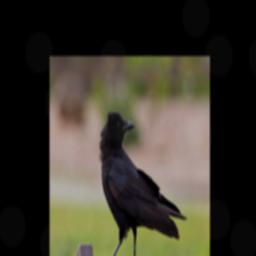Crow: (98, 111, 188, 256)
